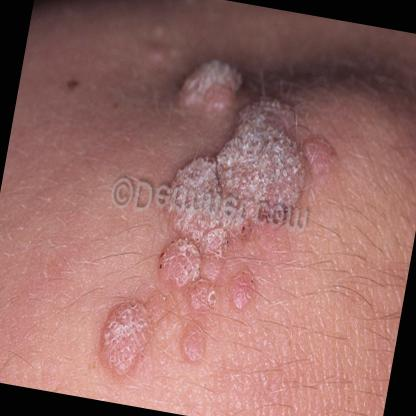Warts: (92, 285, 160, 388), (148, 230, 208, 302)
